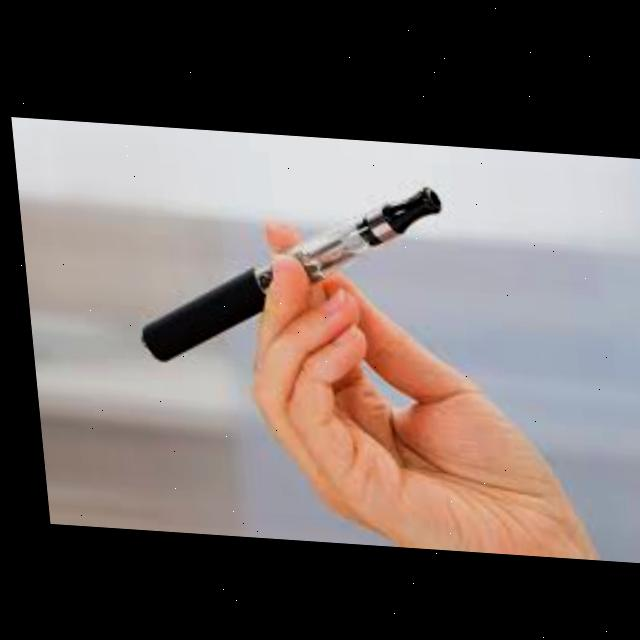vape: (120, 164, 453, 376)
